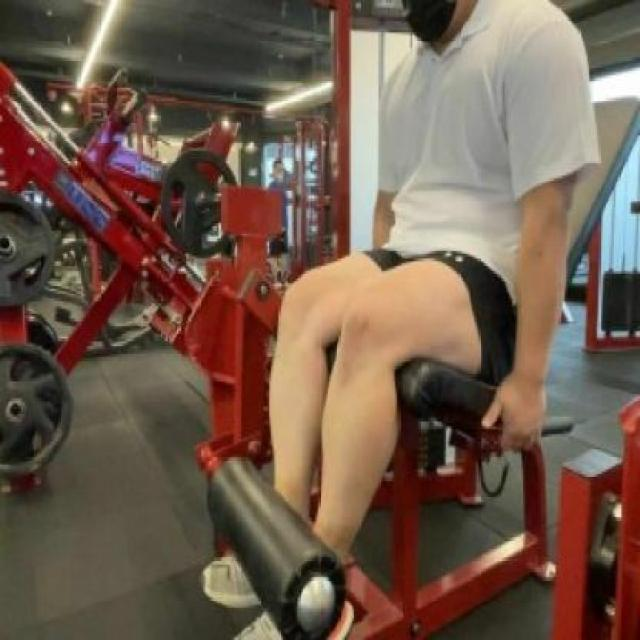leg extension: (182, 0, 596, 640)
